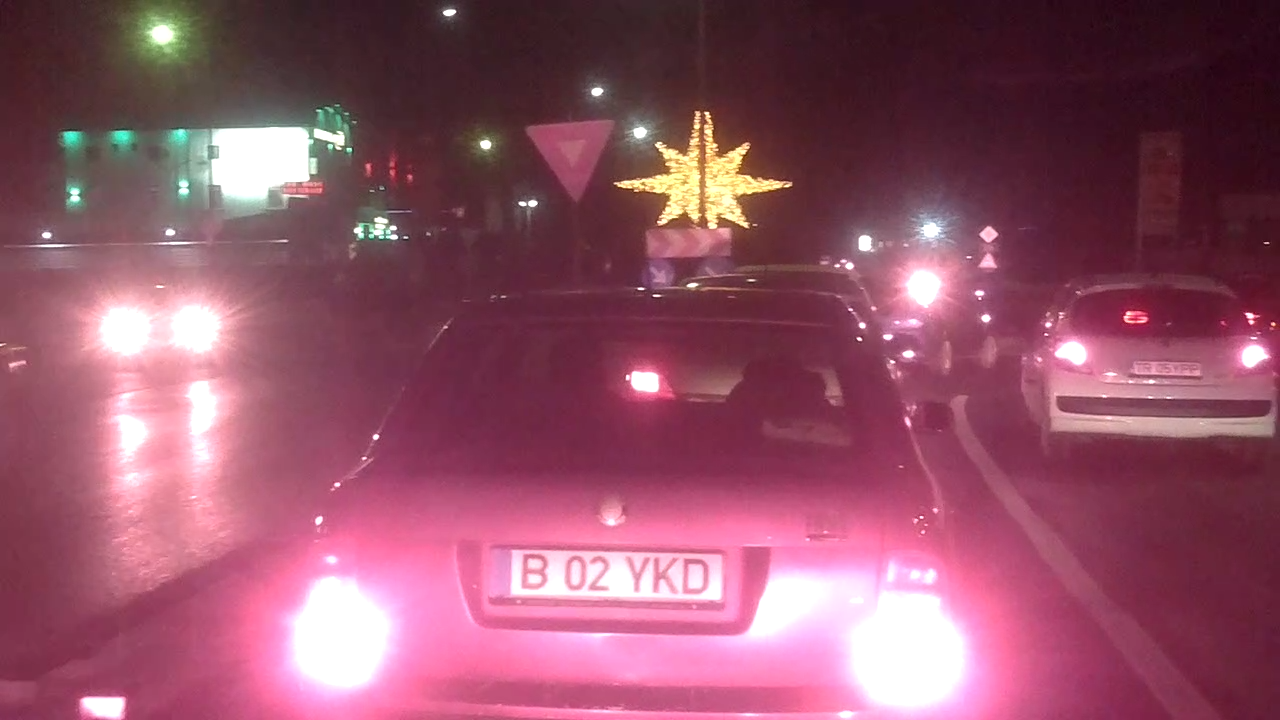license-plate: (479, 539, 737, 608), (1127, 358, 1206, 380)
